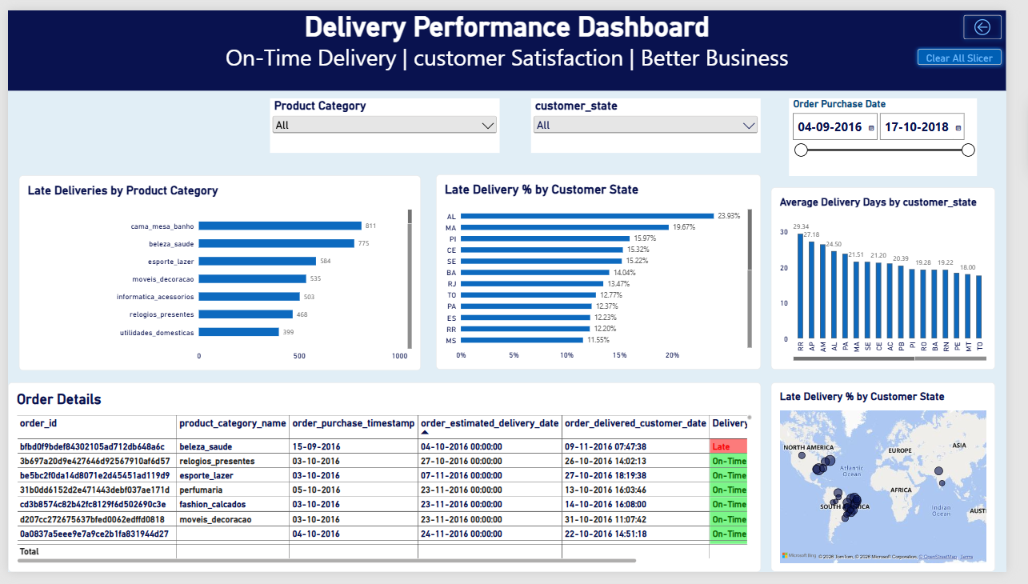

Layout of this report page (visuals, bound fields, positions):
{"tool":"powerbi","page":{"name":"Delivery Analysis","canvas":[1920,1080],"ordinal":2},"visuals":[{"type":"textbox","box":[0,0,1919.6,154.3],"z":0},{"type":"slicer","fields":{"Values":["Orders.order_purchase_timestamp"]},"box":[1501.7,169.2,361,148.3],"z":1000},{"type":"clusteredBarChart","title":"Late Deliveries by Product Category","fields":{"Category":["Products.product_category_name"],"Y":["Orders.Late Deliveries by Category"]},"box":[21,316.6,772.7,375],"z":2000},{"type":"clusteredBarChart","title":"Late Delivery % by Customer State","fields":{"Category":["Customers.customer_state"],"Y":["Orders.Late Delivery %"]},"box":[823.9,314.5,624.4,375],"z":3000},{"type":"slicer","fields":{"Values":["Customers.customer_state"]},"box":[1006.4,169.2,441.3,104.7],"z":4000},{"type":"slicer","fields":{"Values":["Products.product_category_name"]},"box":[504.1,169.2,441.3,104.7],"z":5000},{"type":"tableEx","title":"Order Details","fields":{"Values":["Orders.order_id","Products.product_category_name","Orders.order_purchase_timestamp","Orders.order_estimated_delivery_date","Orders.order_delivered_customer_date","Orders.Delivery Status","Sum(Orders.Delay (Days))"]},"box":[0,715.1,1447.7,364.5],"z":6000},{"type":"clusteredColumnChart","title":"Average Delivery Days by customer_state","fields":{"Category":["Customers.customer_state"],"Y":["Orders.Average Delivery Days"]},"box":[1467.7,341.3,431.5,350.1],"z":7000},{"type":"map","title":"Late Delivery % by Customer State","fields":{"Category":["Customers.customer_state"],"Size":["Orders.Late Delivery %"]},"box":[1468,716,431,364],"z":8000},{"type":"actionButton","box":[1829.7,0,90.7,64.5],"z":9000},{"type":"actionButton","box":[1740.4,65.4,178.8,48.1],"z":9001}]}

Visuals, with their boxes in screenshot pixels (x1, y1, x2, y2), scaled from the page's 1920x1080 canvas onto the 1028x584 screenshot:
textbox: bbox=(0, 0, 1027, 83)
slicer - Orders.order_purchase_timestamp: bbox=(804, 91, 997, 172)
"Late Deliveries by Product Category" clusteredBarChart: bbox=(11, 171, 425, 374)
"Late Delivery % by Customer State" clusteredBarChart: bbox=(441, 170, 775, 373)
slicer - Customers.customer_state: bbox=(539, 91, 775, 148)
slicer - Products.product_category_name: bbox=(270, 91, 506, 148)
"Order Details" tableEx: bbox=(0, 387, 775, 583)
"Average Delivery Days by customer_state" clusteredColumnChart: bbox=(786, 185, 1017, 374)
"Late Delivery % by Customer State" map: bbox=(786, 387, 1017, 583)
actionButton: bbox=(980, 0, 1027, 35)
actionButton: bbox=(932, 35, 1027, 61)
